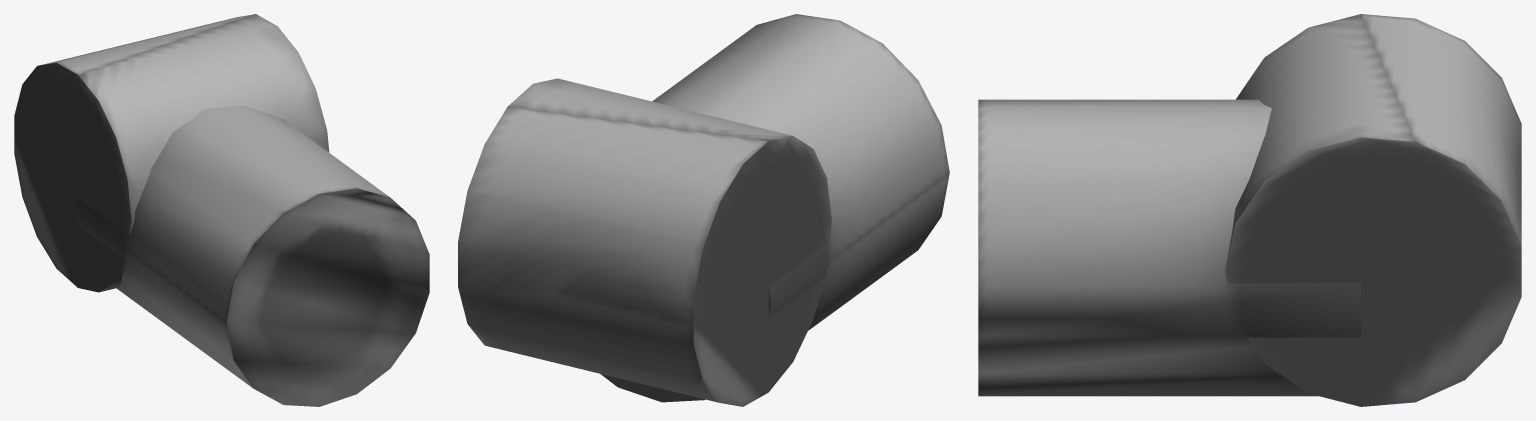
File: l_uarm.dae
3 views of the same model, side by side, from view 1: azimuth 30°, elevation 25°; view 2: azimuth 150°, elevation 25°; view 3: azimuth 270°, elevation 25° (orthographic). The views are drawn at different scales.
Visible parts, largest first — view 1: p24275_1; view 2: p24275_1; view 3: p24275_1.
Part boxes in pixels (bbox=[...]): p24275_1: bbox=[14, 14, 429, 406]; p24275_1: bbox=[458, 14, 949, 406]; p24275_1: bbox=[978, 14, 1521, 406].
Bounding box in the file's own units: 0.0901 × 0.1652 × 0.1034.
